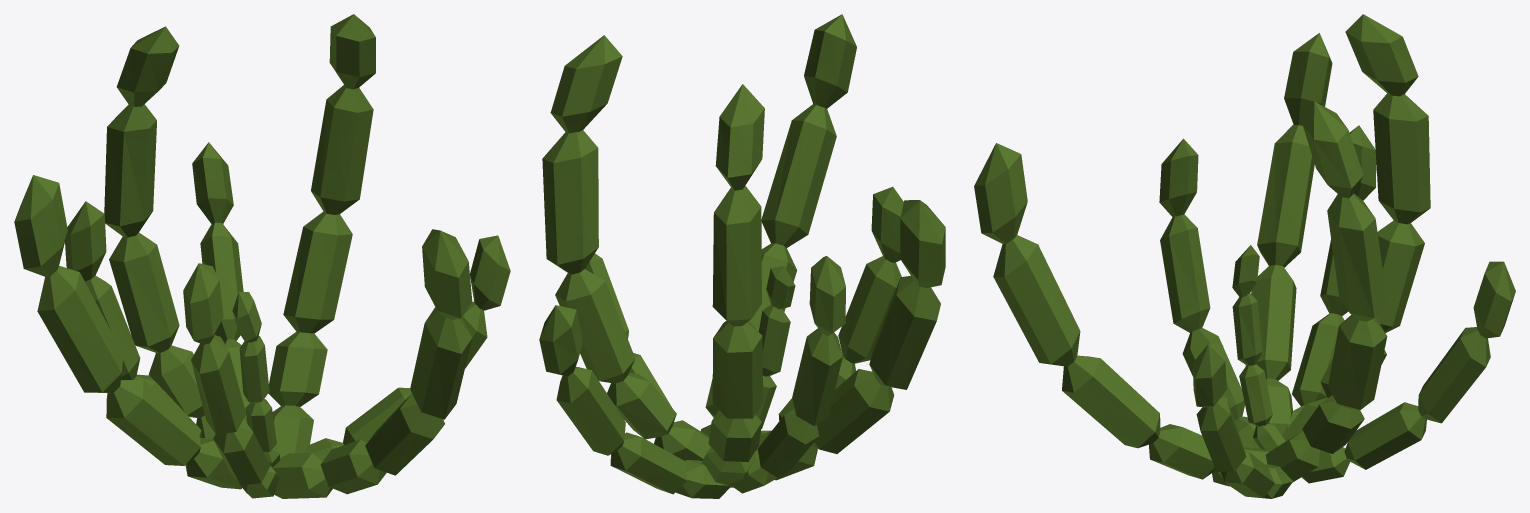
Rendered from Desert_plant_005.glb.
The picture shows the model from 3 angles, left to right: view 1: azimuth 30°, elevation 25°; view 2: azimuth 150°, elevation 25°; view 3: azimuth 270°, elevation 25°; orthographic projection. The views are drawn at different scales.
Visible parts, largest first — view 1: Desert_plant_005; view 2: Desert_plant_005; view 3: Desert_plant_005.
Part boxes in pixels (x1=…): Desert_plant_005: x1=14, y1=14, x2=510, y2=498; Desert_plant_005: x1=539, y1=14, x2=945, y2=498; Desert_plant_005: x1=974, y1=14, x2=1515, y2=498.
Size of the model in its own units: 0.89 by 0.8736 by 0.9711.
Materials: 1 (1 with a texture image).
